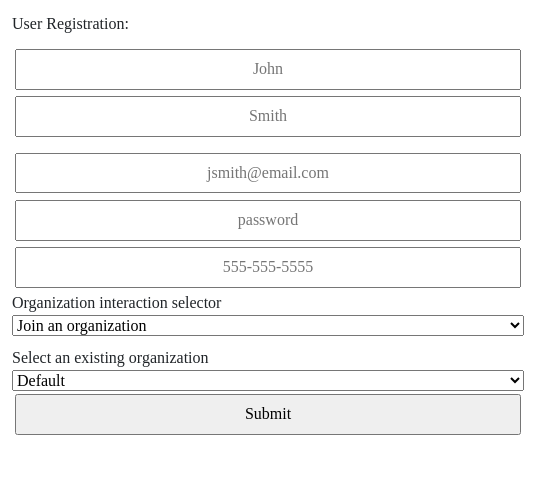
Test case: RegistrationPage › RegistrationPage: Invalid first name input
The image size is (541, 494).
// input text into firstNameInput
Type "invalid1" into the field with placeholder "John" at [268, 69], box [15,49,521,90]
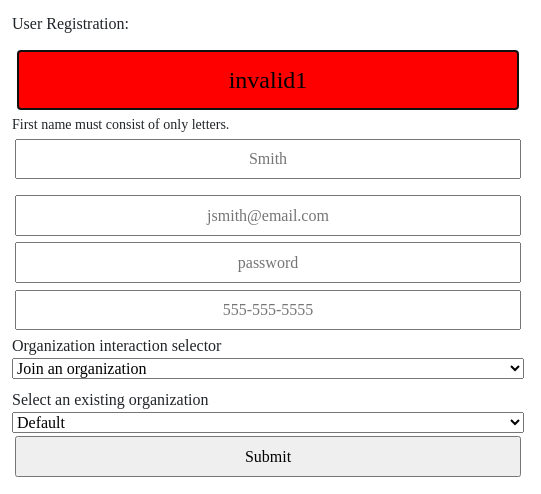
Check: the text with test id "firstNameErrorMessage" reads "First name must consist of only letters.", box [12,117,229,132]
